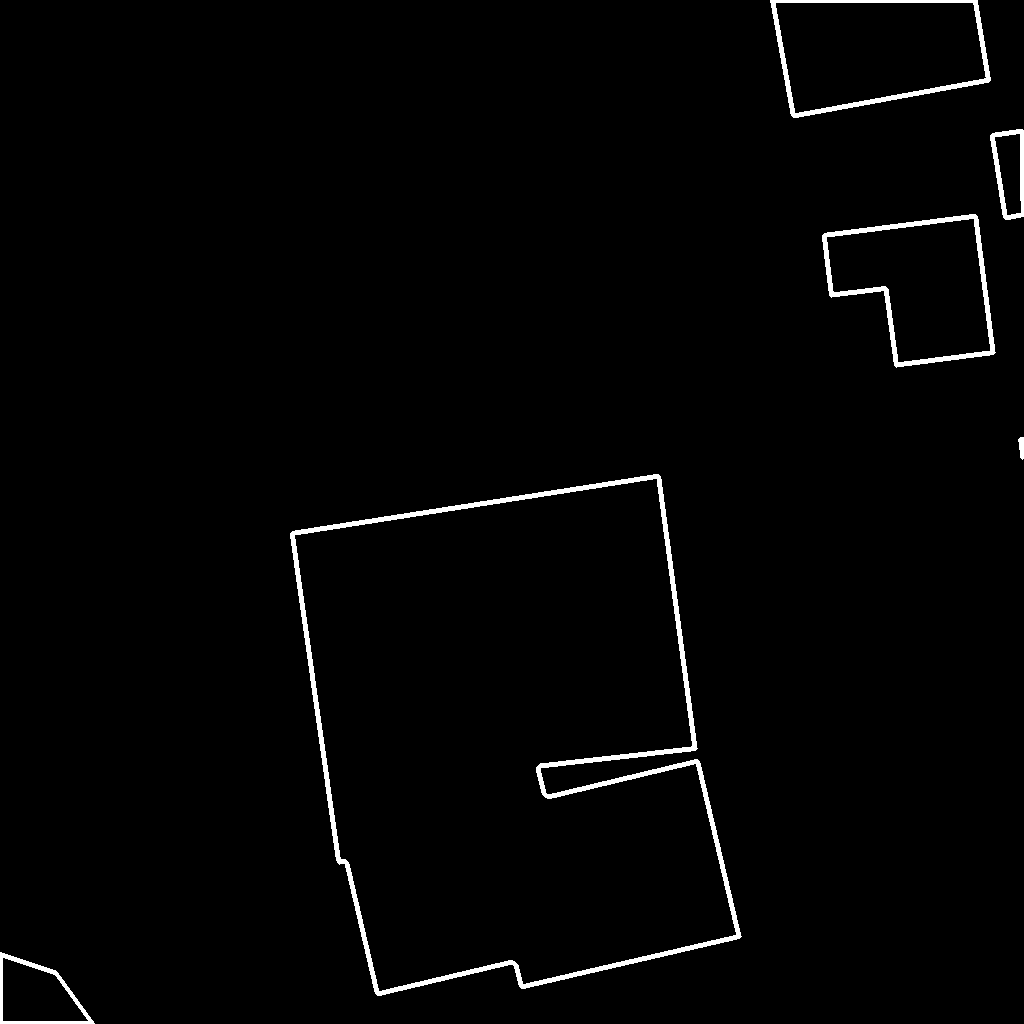building: (292, 476, 740, 995), (772, 0, 990, 117), (824, 216, 994, 366), (0, 954, 94, 1024), (992, 131, 1024, 219), (1020, 439, 1024, 462)
